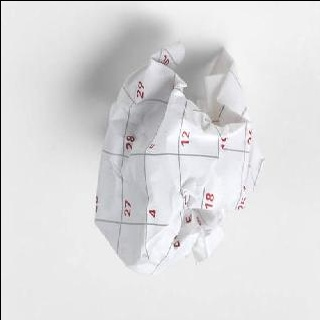8/可回收垃圾/纸: (93, 42, 267, 273)
